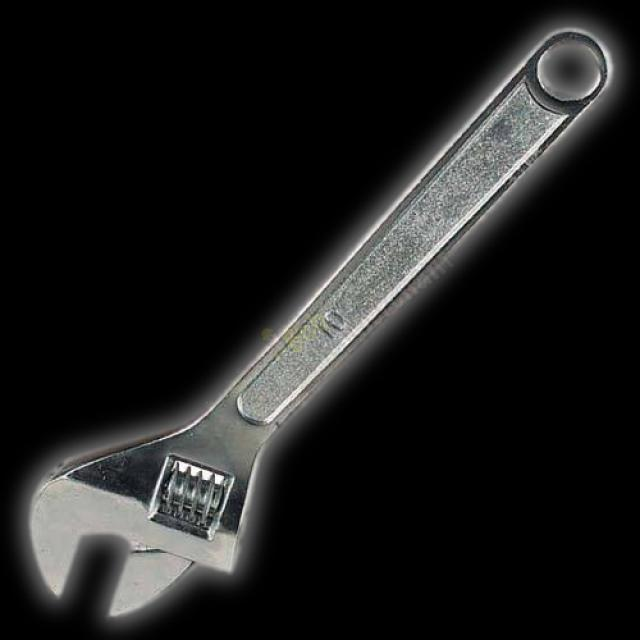wrench: (18, 7, 640, 640)
